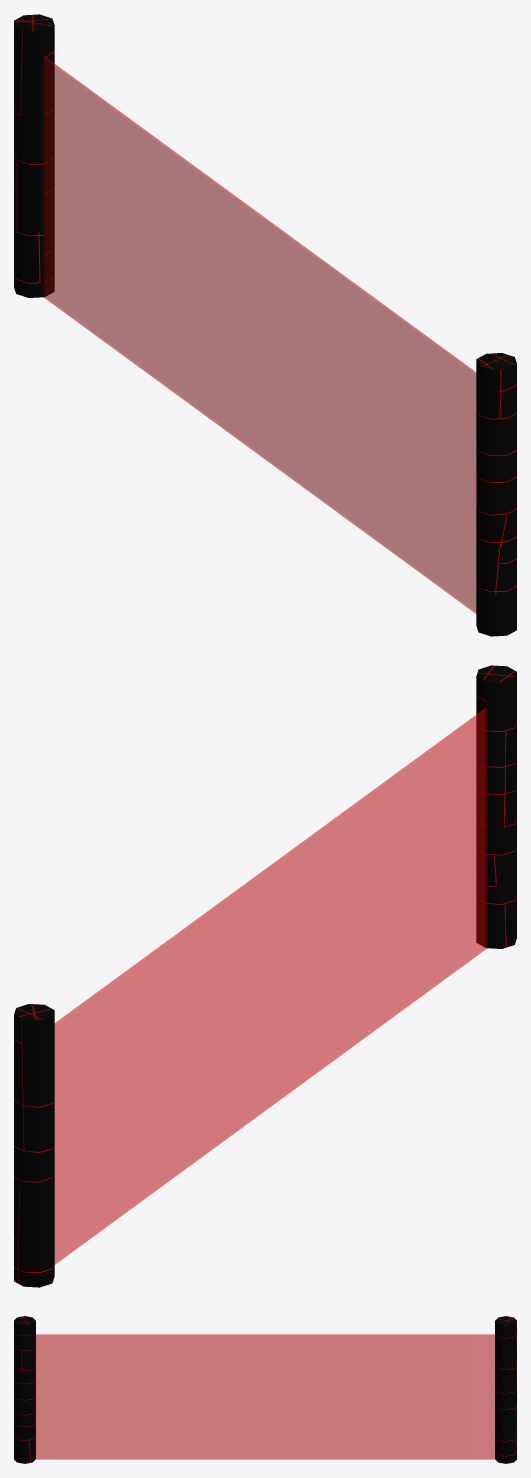
Rendered from burke_wall.fbx.
3 renders of one model, top to bottom at view 1: azimuth 30°, elevation 25°; view 2: azimuth 150°, elevation 25°; view 3: azimuth 270°, elevation 25°, orthographic. The views are drawn at different scales.
Visible parts, largest first — view 1: polySurface2, polySurface1; view 2: polySurface2, polySurface1; view 3: polySurface2, polySurface1.
Part boxes in pixels (left/top/right/bottom): polySurface2: left=43, top=57, right=476, bottom=613; polySurface1: left=14, top=14, right=516, bottom=636; polySurface2: left=54, top=708, right=487, bottom=1264; polySurface1: left=14, top=665, right=516, bottom=1287; polySurface2: left=36, top=1334, right=494, bottom=1459; polySurface1: left=14, top=1316, right=516, bottom=1463.
Bounding box in the file's own units: 0.8176 × 5.72 × 18.82.
